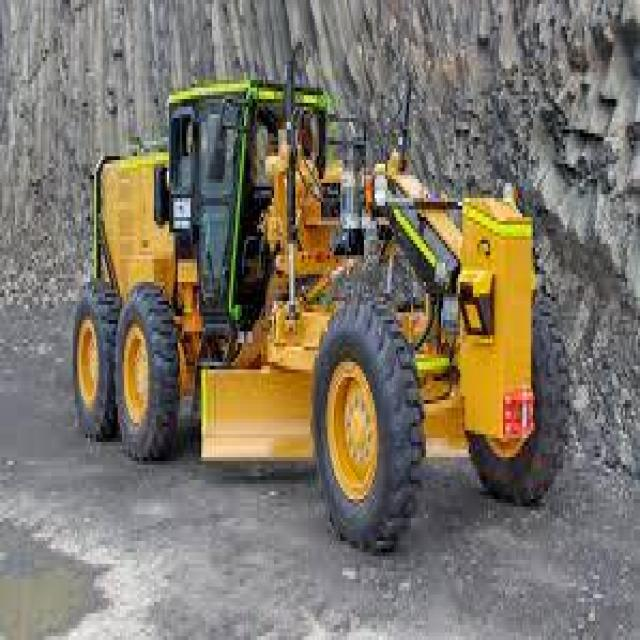Grader: (65, 50, 584, 556)
